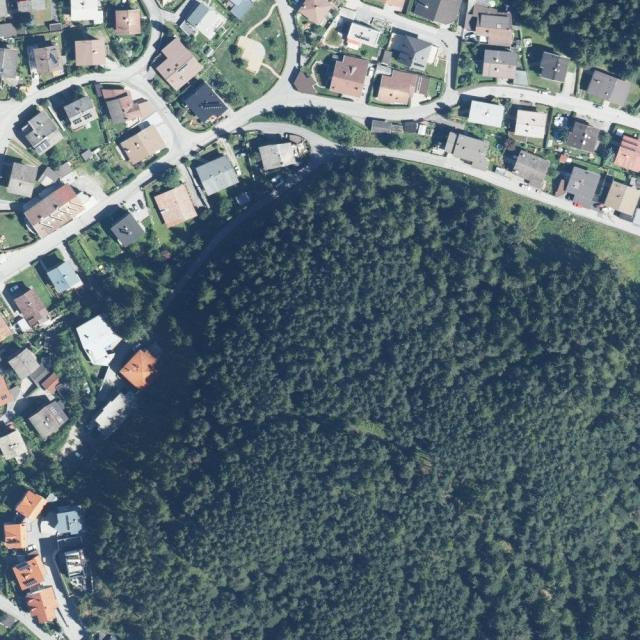building: (90, 78, 158, 137), (22, 181, 87, 241), (72, 311, 130, 372), (149, 37, 204, 93), (383, 29, 441, 76), (173, 0, 228, 49), (15, 108, 66, 159), (183, 81, 229, 128), (91, 391, 136, 439), (118, 346, 164, 392), (153, 183, 199, 229), (119, 123, 167, 166), (584, 68, 634, 109), (27, 398, 73, 442), (194, 154, 239, 197), (376, 67, 420, 110), (471, 4, 515, 47), (509, 150, 554, 191), (330, 53, 369, 99), (228, 33, 270, 75), (12, 287, 52, 331), (450, 133, 495, 172), (10, 553, 51, 594), (63, 547, 95, 595), (62, 95, 101, 134), (46, 259, 84, 298), (25, 586, 62, 626), (564, 120, 604, 157), (108, 212, 146, 250), (603, 179, 640, 218), (565, 165, 602, 202), (13, 487, 49, 523), (7, 345, 43, 381), (345, 22, 382, 56), (6, 162, 39, 199), (481, 48, 518, 81), (258, 139, 296, 171), (0, 428, 31, 467), (27, 363, 64, 395), (34, 45, 65, 82), (467, 99, 506, 128), (513, 108, 548, 139), (537, 51, 570, 83), (297, 0, 334, 28), (291, 70, 323, 100), (74, 39, 107, 66), (54, 507, 83, 535), (115, 9, 141, 35), (185, 2, 210, 28), (4, 523, 28, 550), (40, 371, 65, 396), (36, 166, 61, 191), (371, 119, 404, 133), (0, 375, 12, 407), (443, 131, 459, 155), (1, 315, 14, 342), (0, 22, 18, 40), (495, 166, 508, 176)
greenland: (46, 199, 196, 348), (252, 90, 384, 155), (140, 197, 224, 293), (212, 0, 277, 104), (39, 325, 104, 423), (12, 435, 80, 503), (248, 11, 306, 73), (87, 141, 138, 193), (223, 127, 269, 180), (10, 266, 56, 317), (448, 37, 490, 89), (108, 32, 151, 67), (0, 460, 28, 513), (70, 119, 109, 155), (563, 146, 615, 171), (41, 137, 76, 171), (467, 123, 509, 146), (594, 131, 619, 167), (155, 164, 185, 193), (387, 133, 410, 152)
metalled_road: (360, 130, 640, 236), (462, 69, 640, 140), (222, 139, 339, 239), (350, 0, 463, 61), (160, 230, 227, 308), (241, 111, 340, 156), (308, 94, 436, 126), (440, 53, 466, 107), (244, 2, 280, 40), (138, 19, 167, 66), (280, 85, 316, 114), (439, 86, 462, 109), (261, 61, 282, 80)
